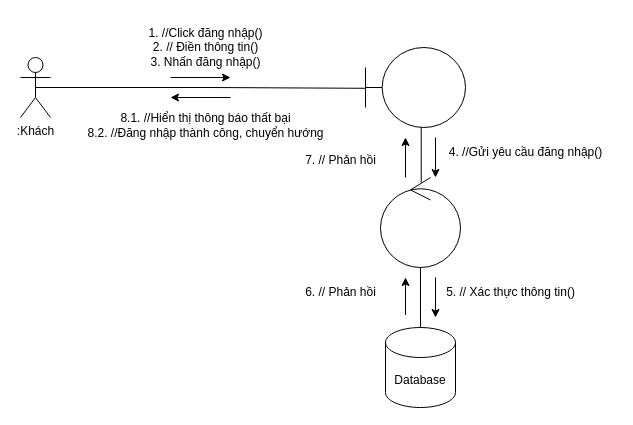
Some shapes in this 633 by 425 pixel diagram are drawn without their labels. Here are the shapes that lost their labels. From the top down, the centre of each, then its label:
At point (415, 87): ":LoginUI".
At point (420, 222): ":Authenticate".
